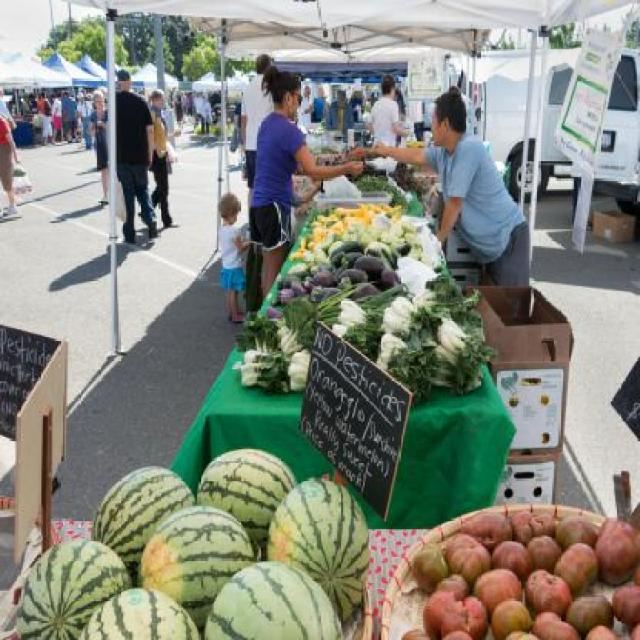Watermelon: (11, 446, 372, 640)
